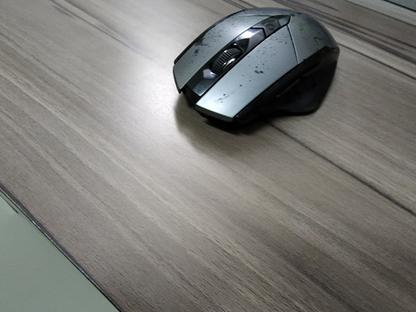mouse: (171, 6, 339, 130)
